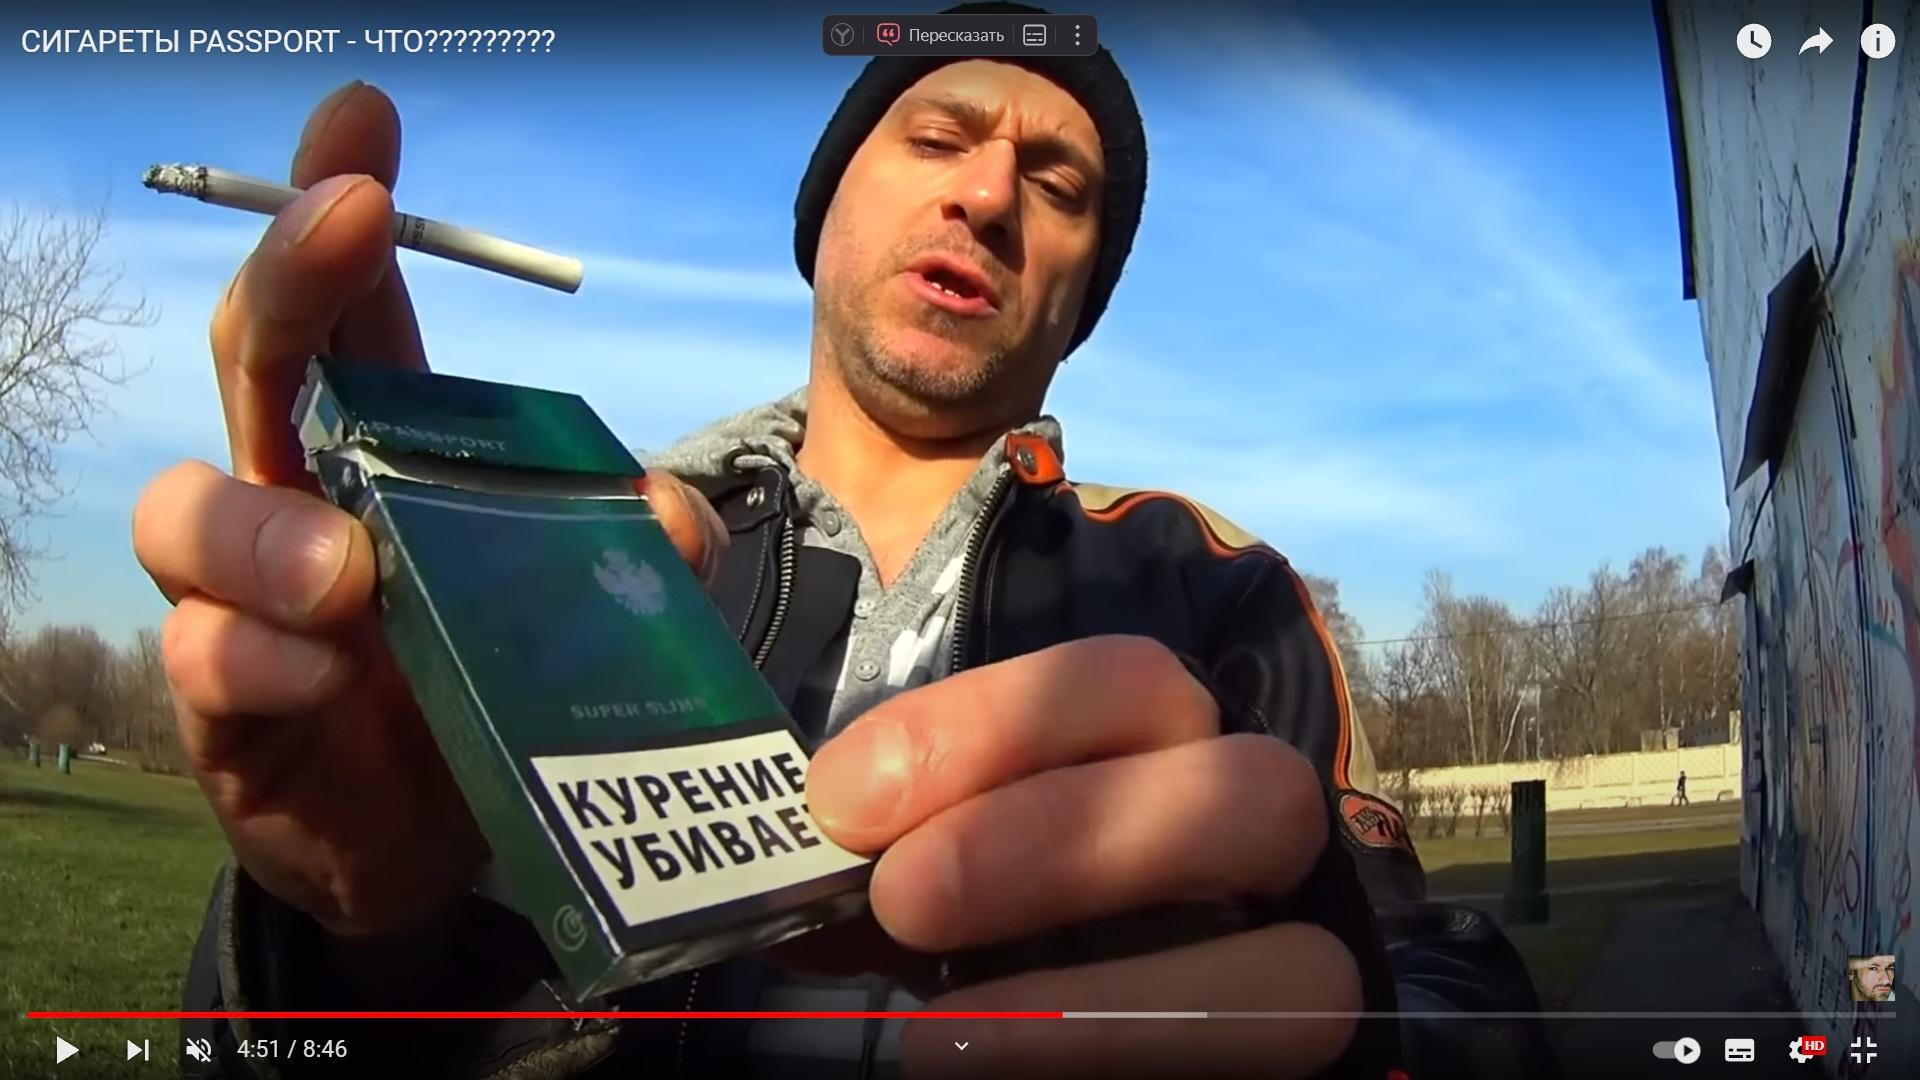cigarette: (141, 164, 587, 297)
